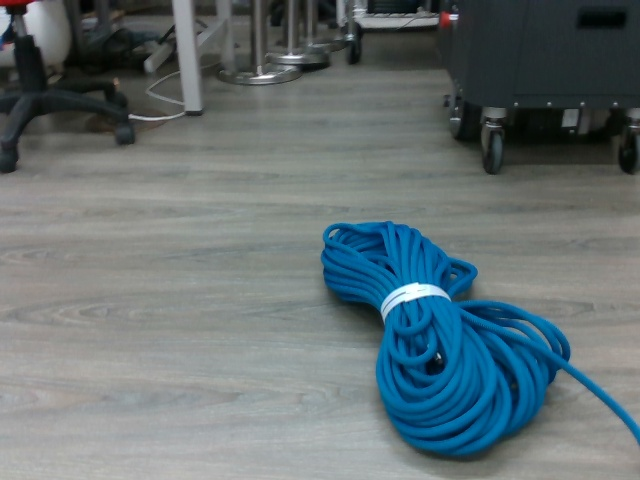rope: (315, 217, 640, 464)
